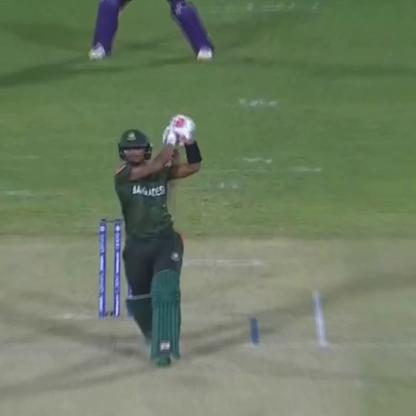bat: (162, 113, 197, 168)
pitch: (0, 289, 367, 415)
